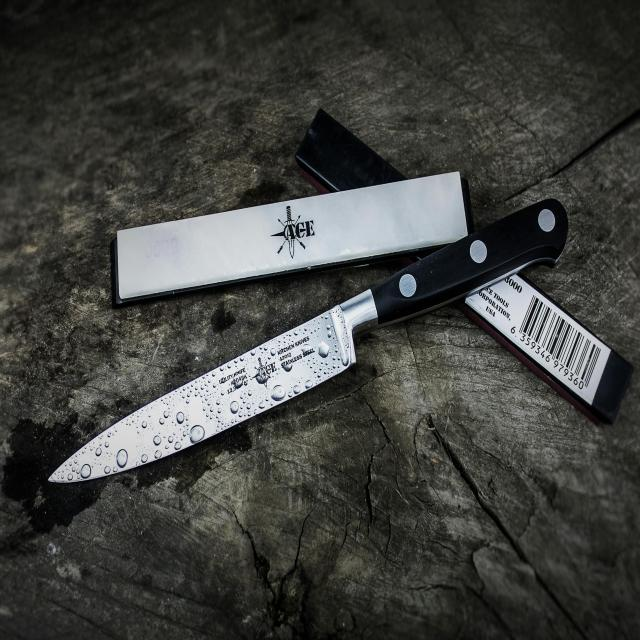Knife: (44, 186, 572, 509)
